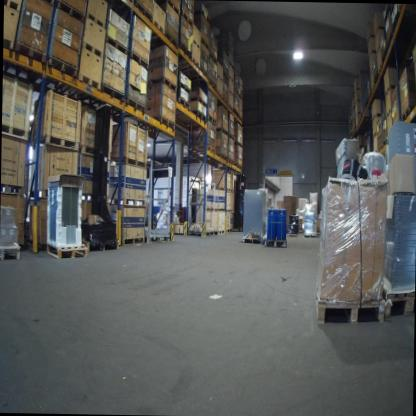pallet: (313, 292, 386, 326), (382, 280, 415, 319), (45, 54, 80, 81), (31, 134, 79, 152), (13, 39, 46, 64), (46, 240, 88, 259), (54, 0, 86, 24), (103, 34, 131, 57), (145, 74, 177, 92), (76, 73, 102, 95), (108, 156, 146, 170), (1, 120, 29, 139), (82, 239, 119, 253), (101, 82, 125, 103), (131, 0, 153, 21), (79, 145, 111, 159), (0, 240, 21, 261), (129, 51, 150, 72), (124, 96, 147, 115), (81, 38, 103, 57), (106, 197, 147, 207), (86, 11, 106, 30), (151, 115, 176, 130), (0, 181, 23, 196), (115, 235, 146, 246), (187, 142, 215, 154), (164, 30, 178, 51), (179, 44, 193, 64), (165, 0, 180, 17), (191, 109, 207, 124), (264, 238, 287, 248), (176, 96, 191, 111), (181, 11, 194, 28), (400, 104, 413, 121), (4, 0, 22, 12), (178, 80, 192, 95), (152, 18, 165, 34), (190, 96, 207, 108), (384, 82, 397, 96), (3, 36, 15, 51), (214, 124, 229, 136), (198, 66, 210, 81), (237, 92, 243, 122), (241, 237, 264, 244), (80, 190, 93, 202), (213, 152, 228, 162), (188, 230, 214, 235), (35, 0, 56, 6), (191, 55, 200, 69), (201, 35, 210, 49), (374, 25, 384, 37), (206, 113, 216, 125), (368, 48, 376, 62), (371, 111, 382, 121), (209, 80, 218, 92), (209, 51, 218, 63), (382, 135, 389, 149), (366, 34, 374, 46), (285, 233, 300, 239), (193, 39, 201, 50), (233, 225, 243, 233), (386, 107, 392, 119), (234, 140, 243, 148), (227, 132, 235, 141), (233, 106, 239, 118), (216, 72, 223, 82), (216, 89, 223, 99), (302, 232, 316, 237), (377, 142, 382, 155), (377, 62, 382, 74), (227, 101, 233, 111), (217, 228, 225, 235), (227, 158, 235, 165), (234, 163, 242, 170), (216, 207, 225, 213), (228, 74, 234, 83), (233, 85, 239, 94), (354, 98, 360, 107), (376, 44, 380, 57), (369, 66, 374, 76), (227, 88, 234, 95), (224, 207, 232, 213), (225, 227, 233, 233), (228, 60, 234, 68), (355, 110, 361, 118), (372, 130, 377, 138), (354, 87, 359, 95), (355, 122, 359, 129)
small_load_carrier: (214, 186, 231, 194)
